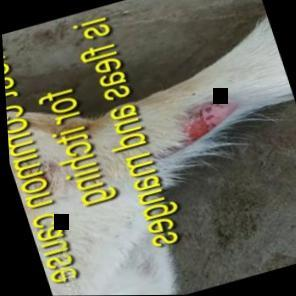skin_lesions: (168, 91, 247, 146)
